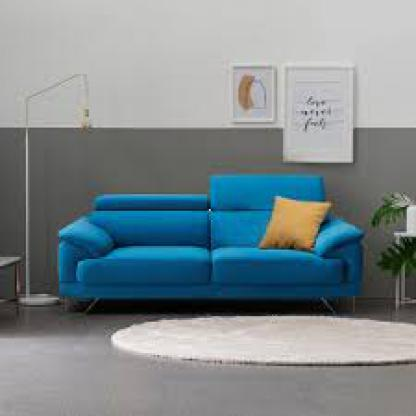sofa: (66, 172, 362, 312)
